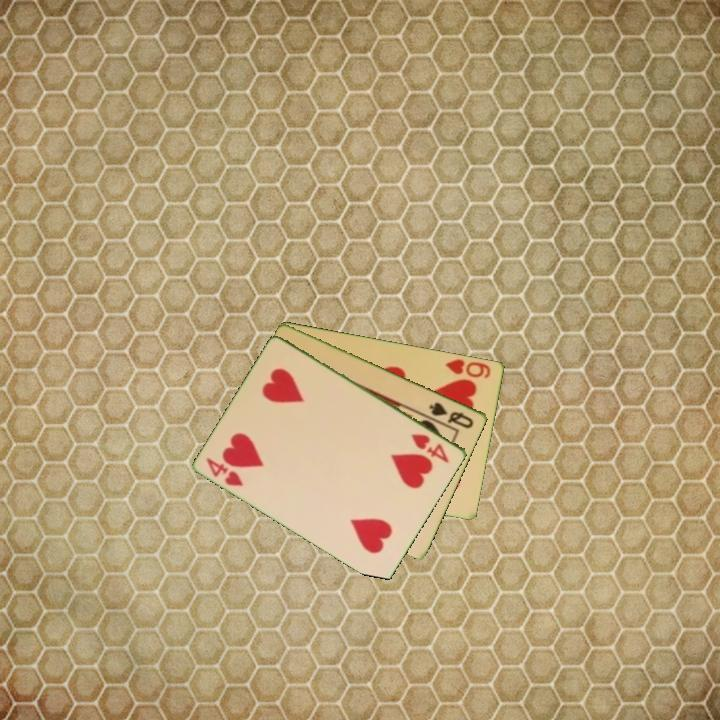4h: (408, 430, 453, 466), (203, 454, 247, 489)
6h: (442, 355, 494, 381)
Qs: (426, 399, 477, 431)
